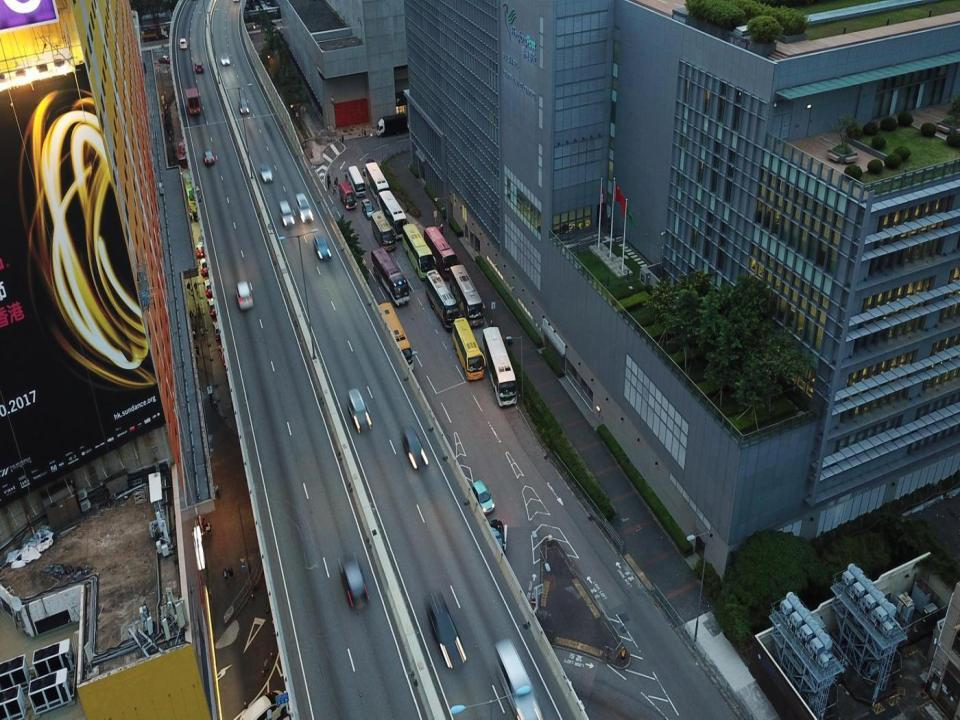bus: (378, 298, 415, 382), (483, 326, 518, 408), (371, 246, 412, 310), (451, 265, 488, 330), (452, 317, 487, 382), (426, 268, 460, 332), (424, 226, 462, 279), (378, 190, 413, 245), (403, 224, 436, 281), (364, 160, 392, 204), (370, 210, 399, 252), (347, 162, 365, 197), (338, 181, 359, 210)
car: (493, 642, 548, 719), (423, 591, 468, 672), (338, 554, 372, 611), (399, 424, 430, 472), (346, 388, 372, 432), (485, 519, 509, 562), (472, 479, 496, 513), (233, 278, 256, 312), (294, 192, 314, 224), (312, 233, 333, 260), (277, 198, 294, 229), (257, 165, 274, 184), (201, 277, 216, 298), (206, 298, 219, 319), (237, 95, 250, 115), (202, 148, 216, 166), (198, 258, 211, 277), (211, 320, 224, 338), (193, 59, 206, 76), (220, 50, 231, 67), (158, 54, 173, 65), (178, 36, 189, 50)
truck: (372, 114, 406, 138), (184, 88, 202, 117)
van: (236, 689, 288, 719), (362, 193, 375, 218)
